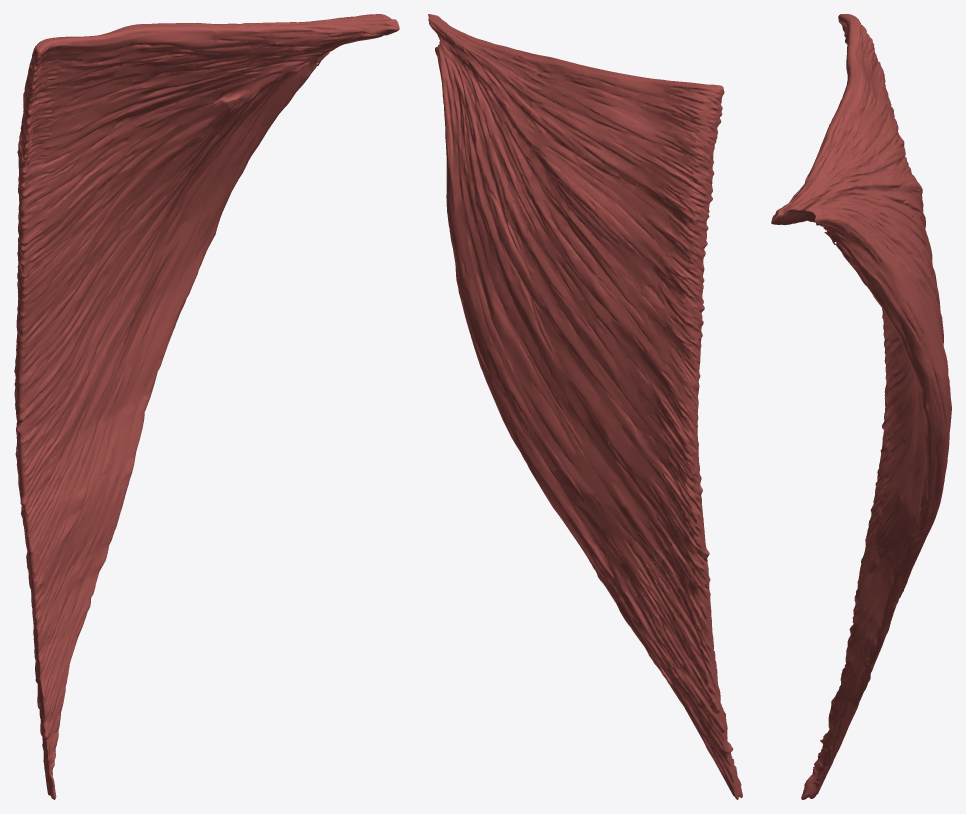
File: FMA33583.glb
3 views of the same model, side by side, from view 1: azimuth 30°, elevation 25°; view 2: azimuth 150°, elevation 25°; view 3: azimuth 270°, elevation 25° (orthographic). The views are drawn at different scales.
Visible parts, largest first — view 1: FMA33583; view 2: FMA33583; view 3: FMA33583.
Part boxes in pixels (x1=…): FMA33583: x1=14, y1=14, x2=399, y2=799; FMA33583: x1=428, y1=14, x2=742, y2=799; FMA33583: x1=771, y1=14, x2=951, y2=799.
Size of the model in its own units: 0.1344 by 0.2848 by 0.0592.
